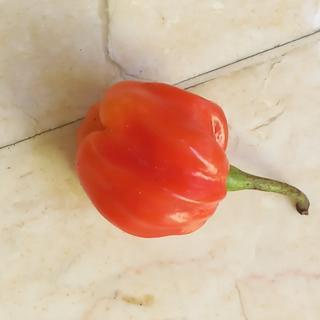Grade-B: (66, 76, 233, 241)
